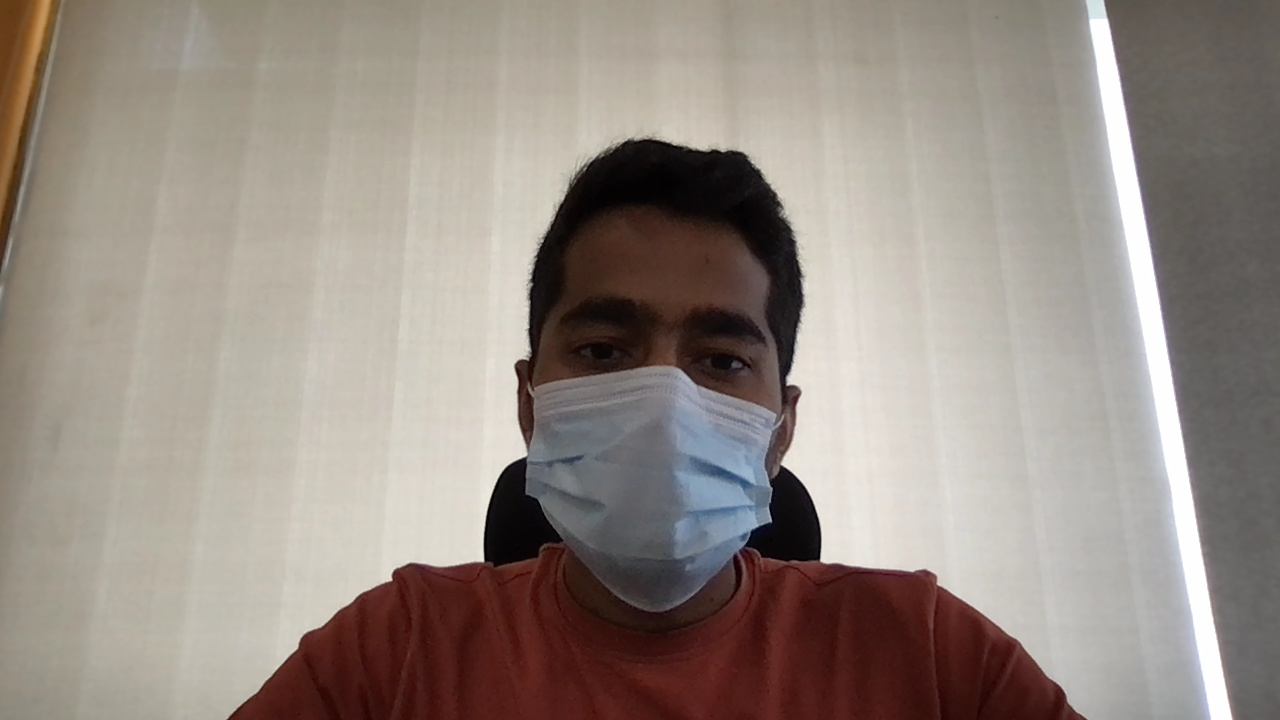mask: (526, 363, 778, 614)
